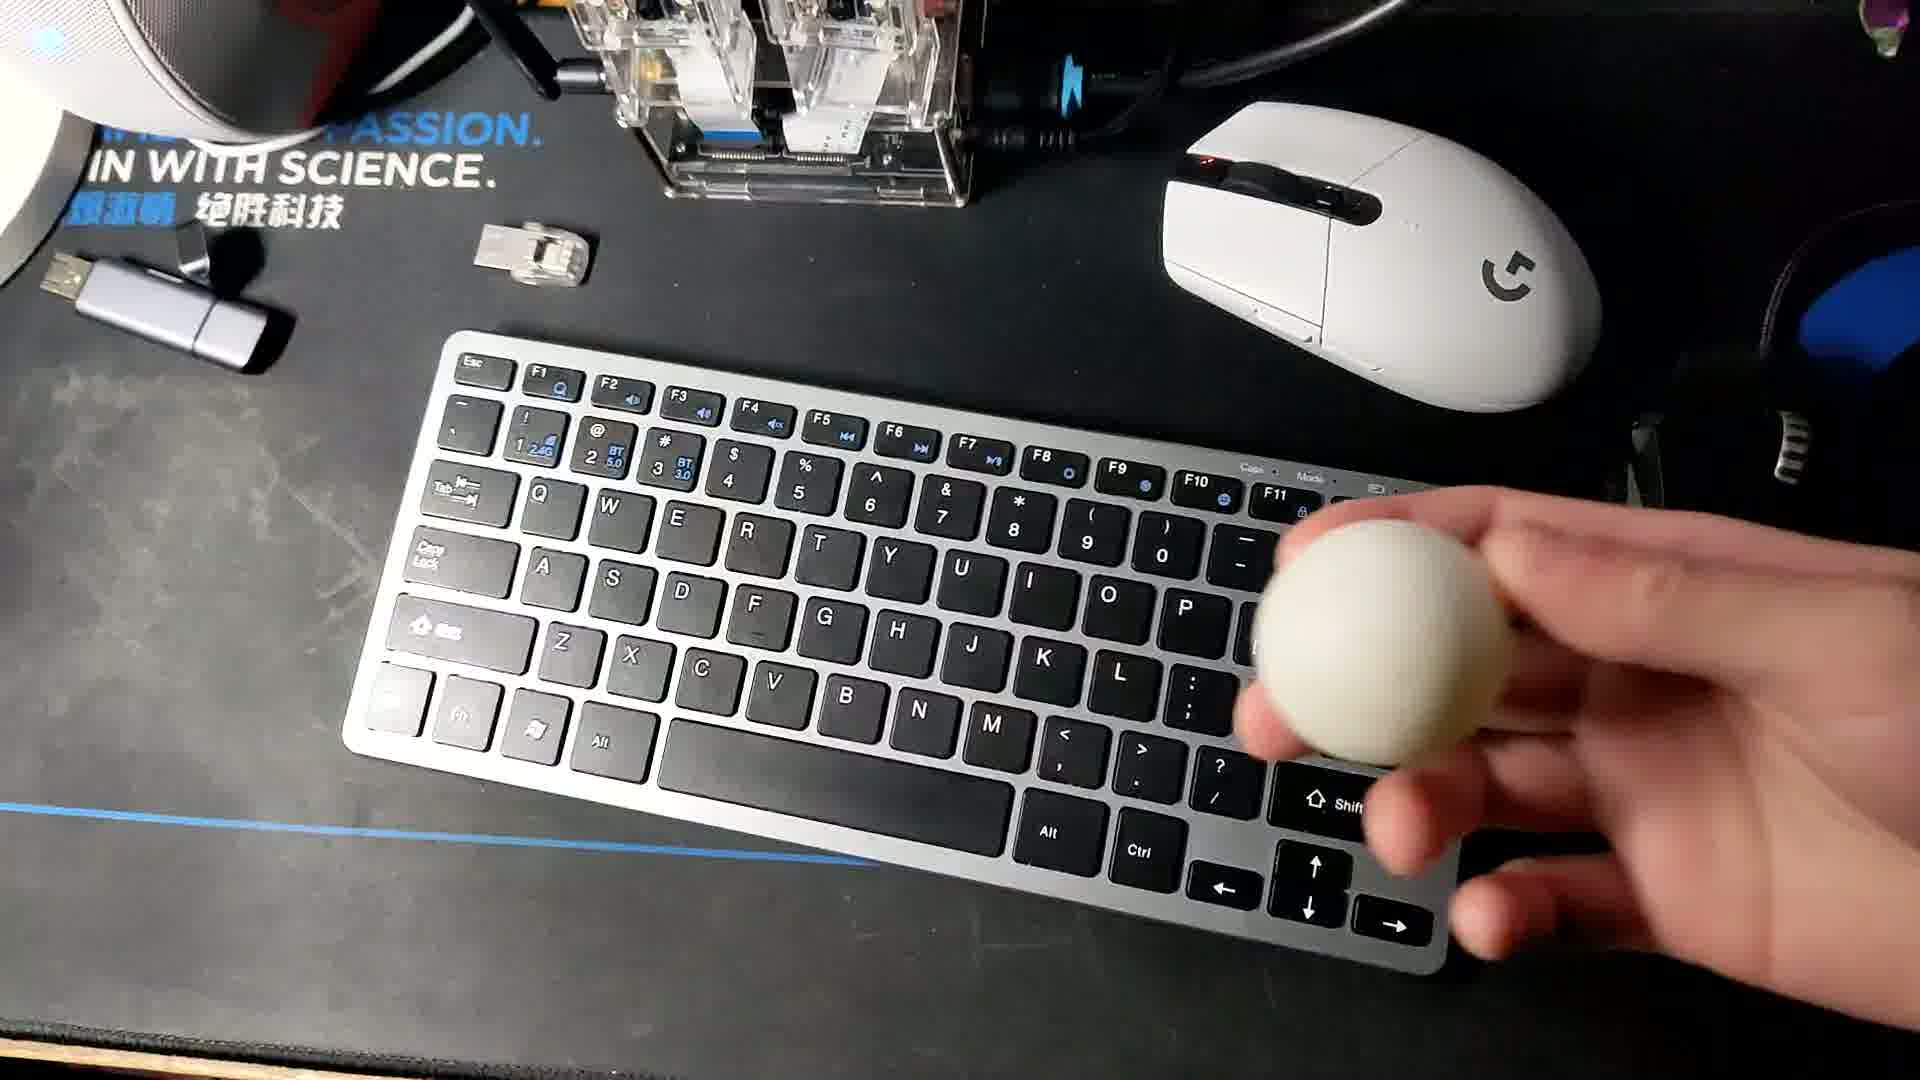Ball: (1258, 520, 1503, 758)
